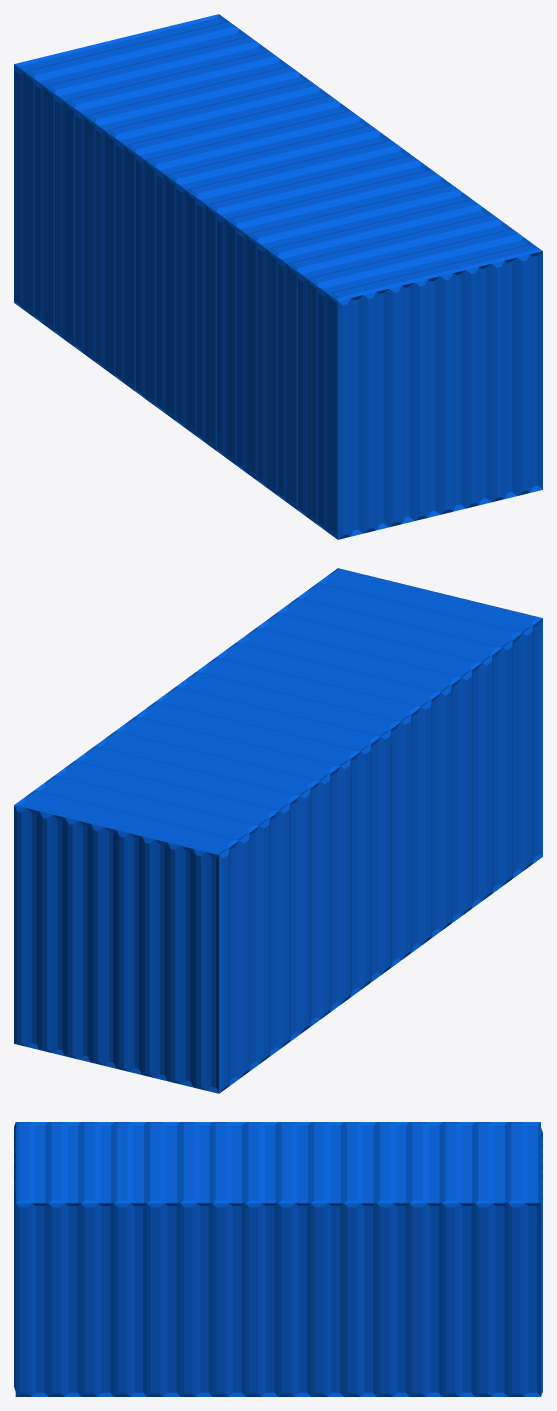
The model's file is container.fbx.
The picture shows the model from 3 angles, top to bottom: view 1: azimuth 30°, elevation 25°; view 2: azimuth 150°, elevation 25°; view 3: azimuth 270°, elevation 25°; orthographic projection. The views are drawn at different scales.
Parts seen in each view (by area): view 1: opeque_container; view 2: opeque_container; view 3: opeque_container.
Part boxes in pixels (x1,y1,x2,y2): opeque_container: [14, 14, 542, 539]; opeque_container: [14, 568, 542, 1093]; opeque_container: [14, 1122, 542, 1396].
Size of the model in its own units: 327 by 360 by 886.
